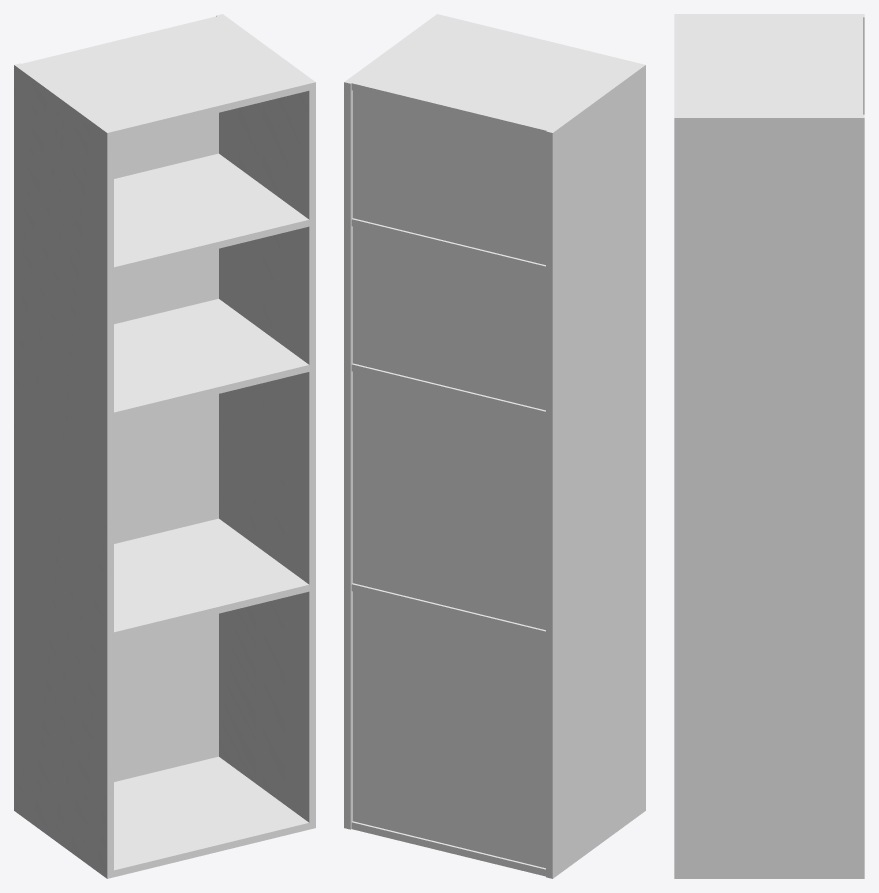
Rendered from corpus_highcabinet_oven-micro_60.glb.
The picture shows the model from 3 angles, left to right: view 1: azimuth 30°, elevation 25°; view 2: azimuth 150°, elevation 25°; view 3: azimuth 270°, elevation 25°; orthographic projection. The views are drawn at different scales.
Parts seen in each view (by area): view 1: corpus_highcabinet_oven-micro_60; view 2: corpus_highcabinet_oven-micro_60; view 3: corpus_highcabinet_oven-micro_60.
Boxes of the visible parts, box(x1,y1,x2,y2) form: corpus_highcabinet_oven-micro_60: box(14, 14, 315, 878); corpus_highcabinet_oven-micro_60: box(344, 14, 645, 878); corpus_highcabinet_oven-micro_60: box(674, 14, 864, 878).
Size of the model in its own units: 0.6 by 2.05 by 0.464.
1 material, 1 textured.
